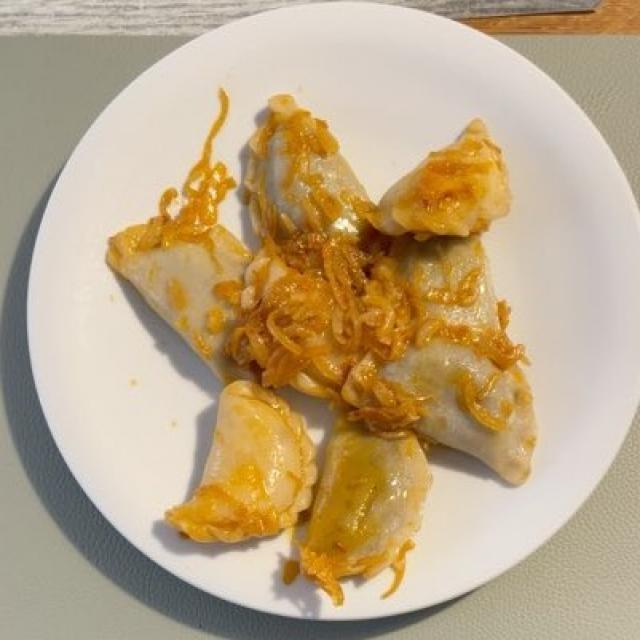dumplings: (117, 95, 534, 598)
sauce: (139, 123, 504, 452)
